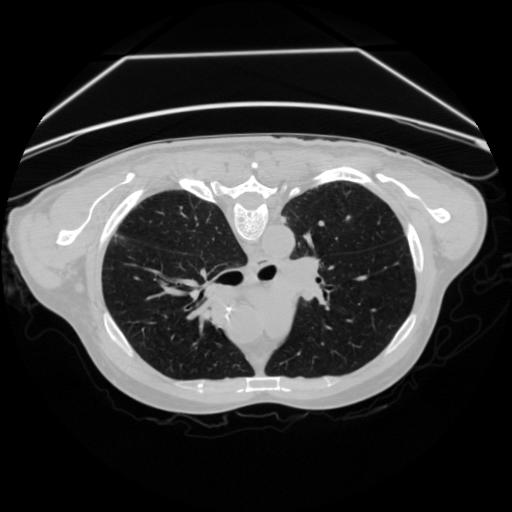nodule: (276, 214, 288, 226)
